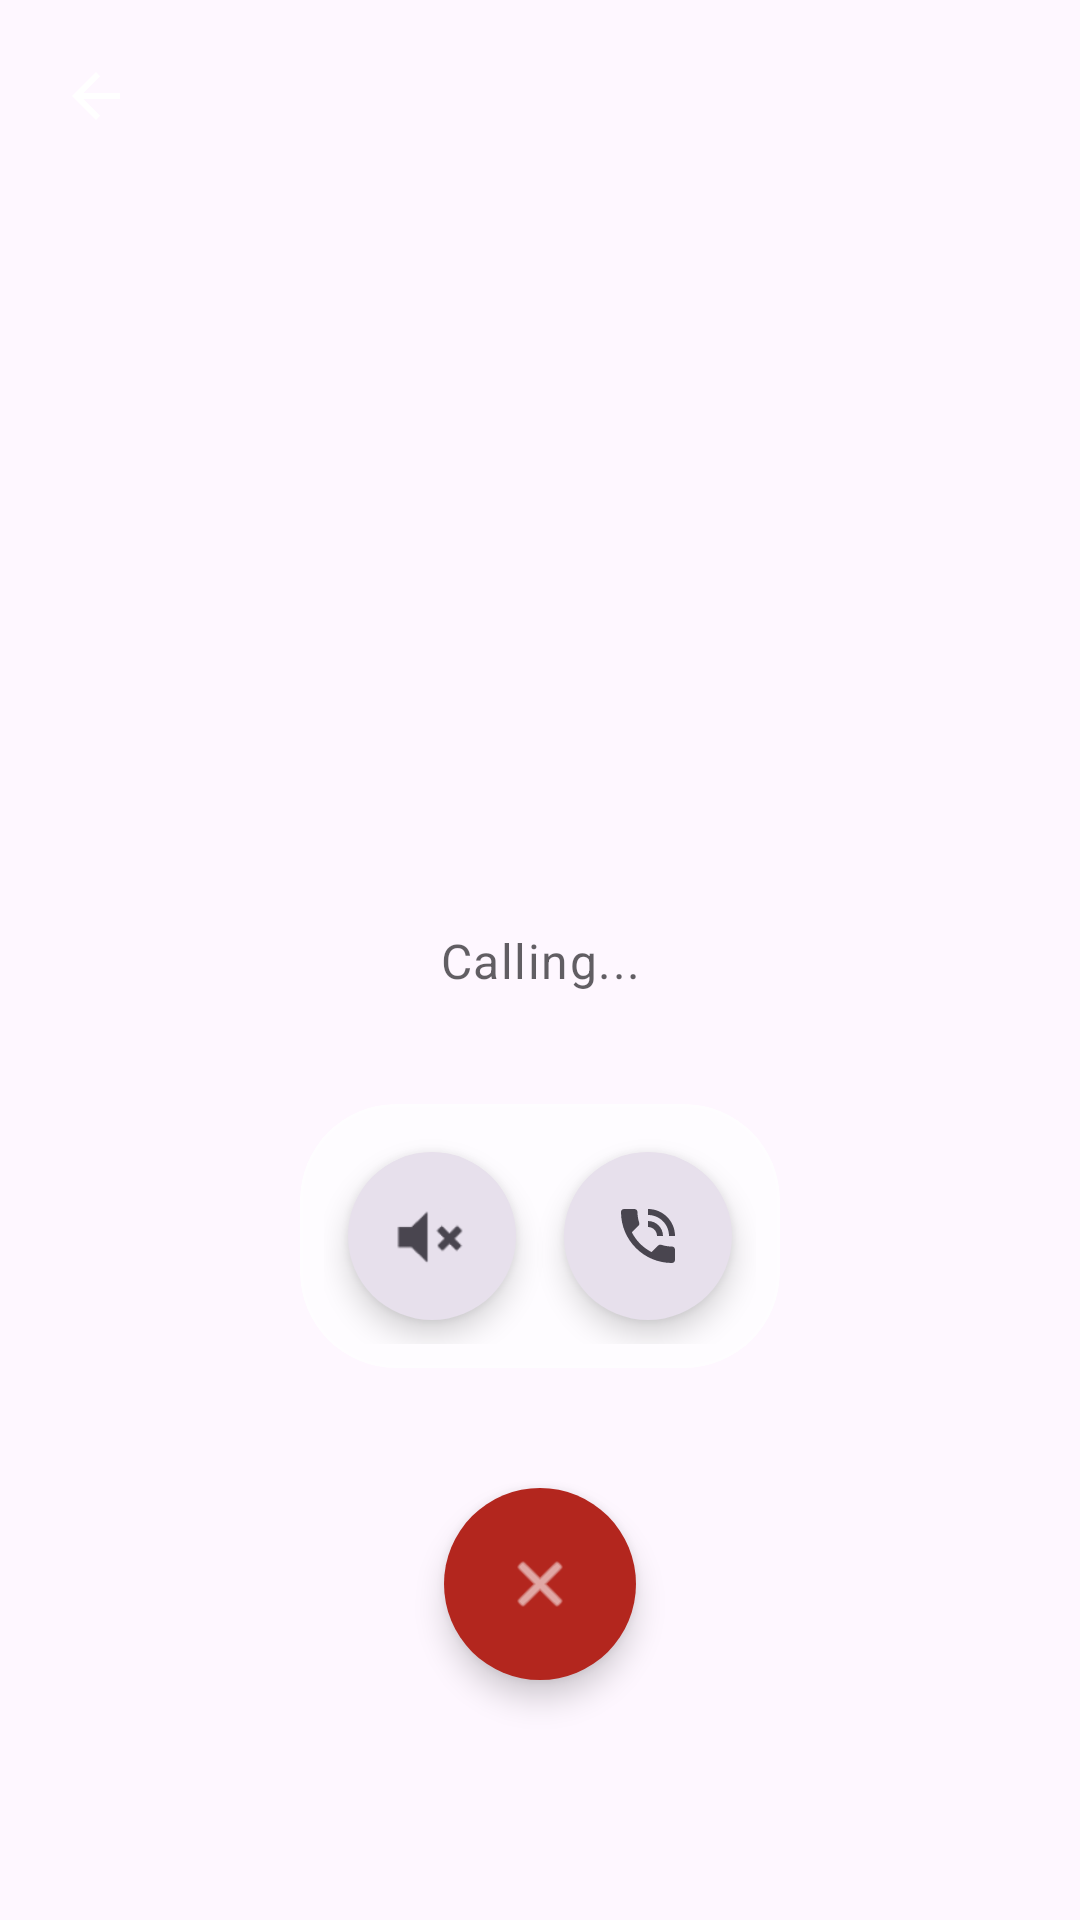

Where to tap for icons on this 1080x1920 app screen, as (x=x, y=y):
Decline: (x=540, y=1584)
Mute: (x=432, y=1236)
